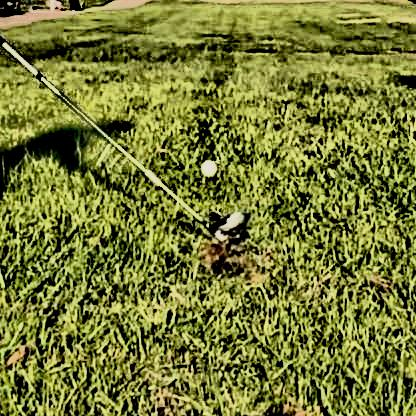golfball: (197, 155, 216, 174)
